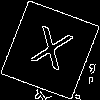X: (25, 25, 75, 80)
